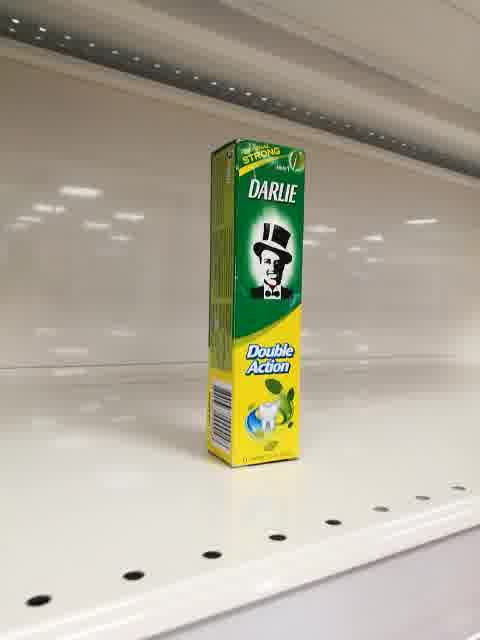toothpaste: (205, 138, 305, 472)
